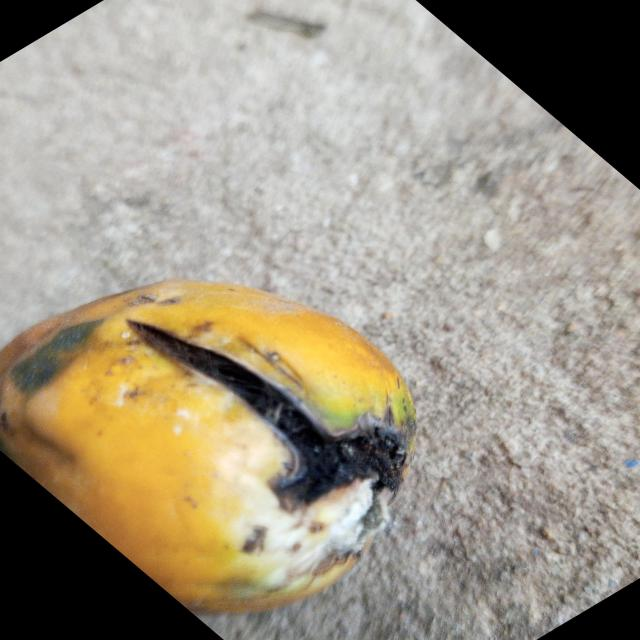damaged: (0, 280, 417, 620)
